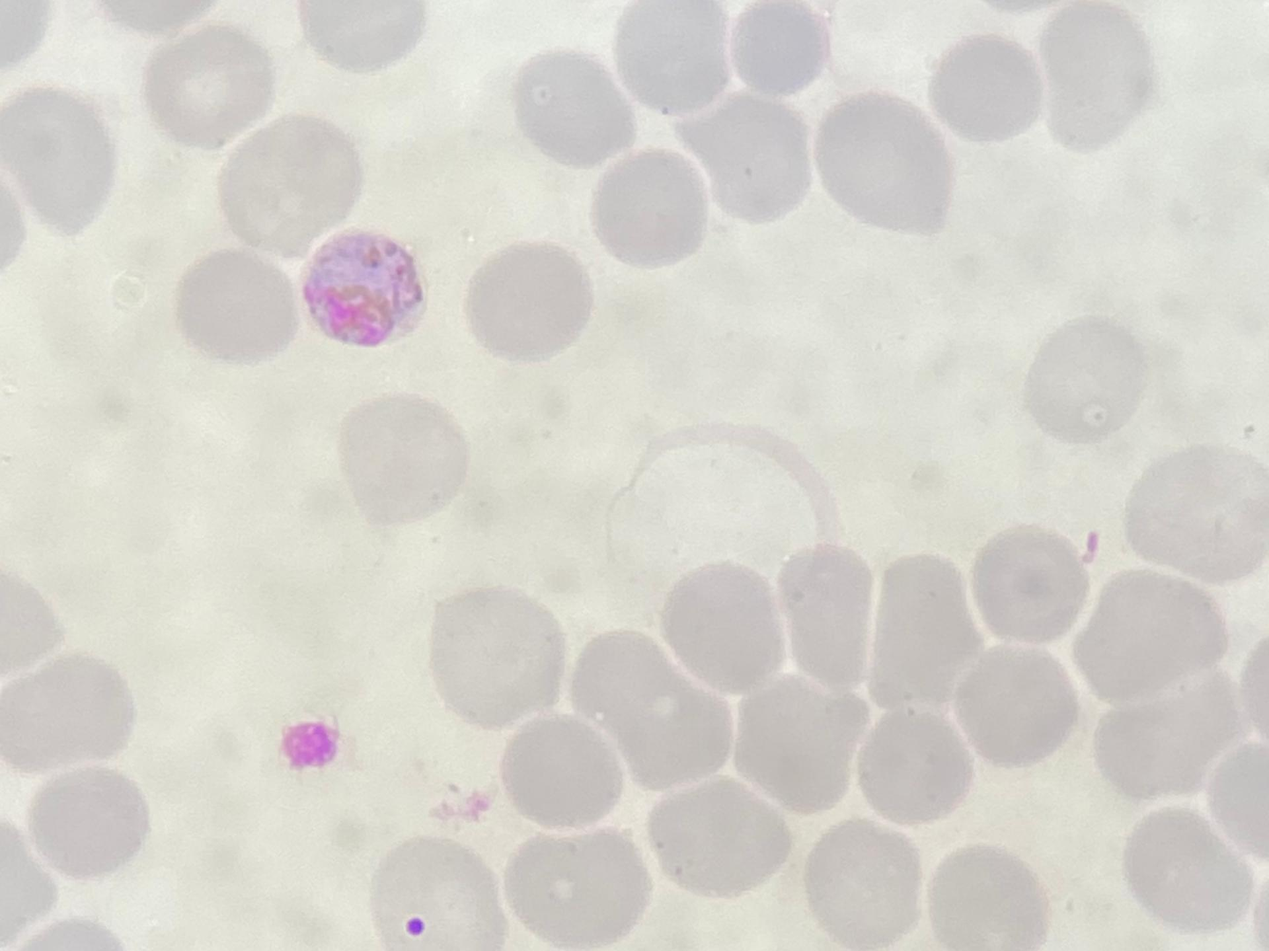Uninfected: (570, 630, 733, 790), (1122, 443, 1266, 583), (427, 585, 566, 729), (1074, 572, 1223, 706), (674, 95, 817, 230), (217, 114, 361, 248), (817, 89, 950, 233), (1091, 674, 1240, 799), (730, 675, 863, 813), (338, 394, 473, 527), (1035, 3, 1150, 157), (865, 549, 981, 701), (657, 561, 786, 697), (646, 778, 790, 899), (1, 84, 116, 235), (503, 829, 647, 948), (458, 234, 596, 356), (1, 654, 136, 775), (143, 24, 273, 148), (1120, 807, 1250, 929), (371, 835, 507, 949), (802, 819, 926, 944), (1023, 317, 1146, 443), (775, 541, 878, 689), (952, 648, 1077, 767), (496, 714, 623, 831), (23, 765, 149, 881), (855, 703, 976, 823), (174, 247, 296, 365), (970, 525, 1088, 645), (590, 144, 709, 262), (510, 50, 631, 166), (303, 230, 424, 344), (925, 844, 1048, 950), (613, 3, 729, 115), (930, 32, 1040, 137), (729, 2, 830, 98), (300, 3, 425, 73)
